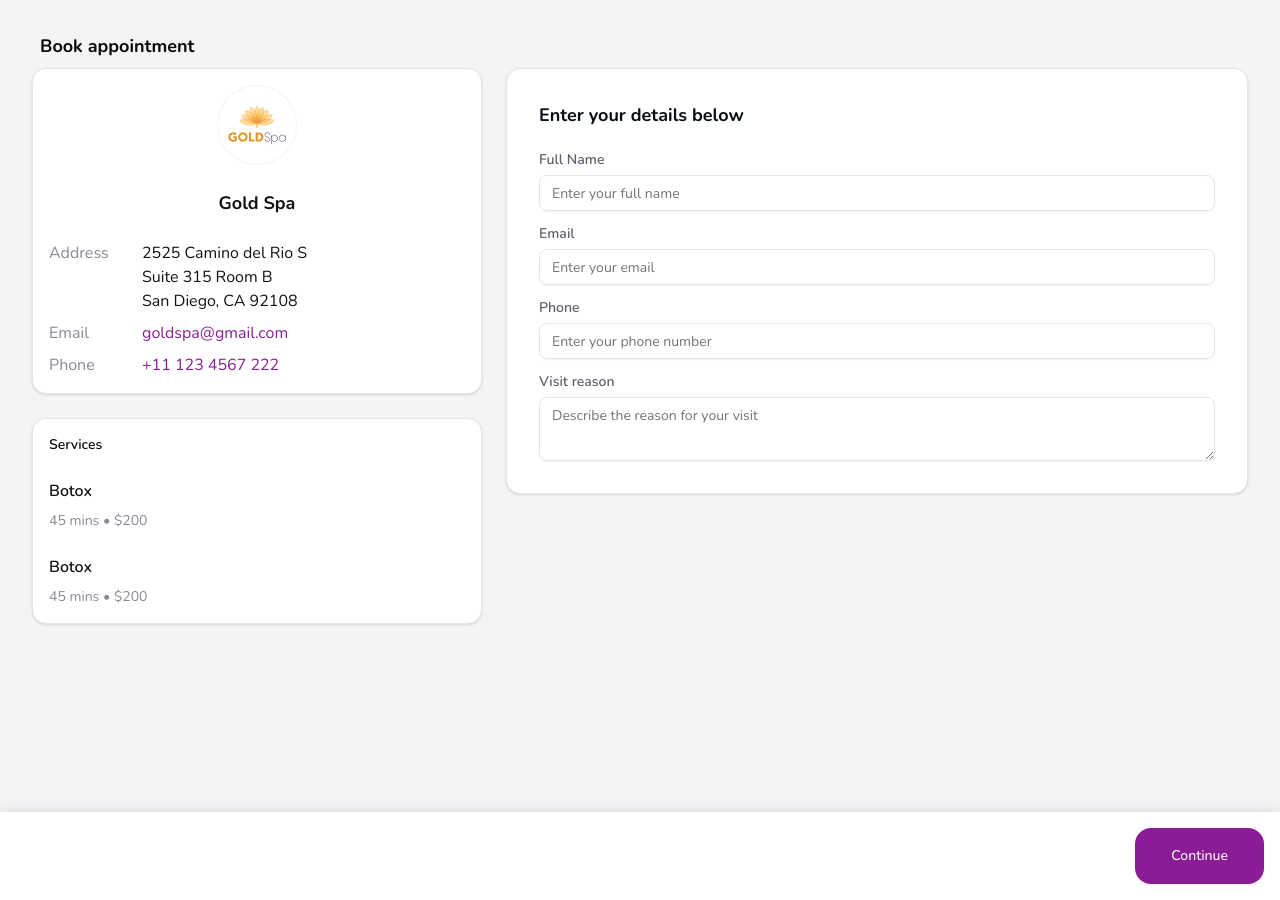
ContactInformation › clears validation errors when valid data is entered
Note: First trigger validation errors
Click the button "Continue" at (1200, 856), box [1135,828,1264,884]
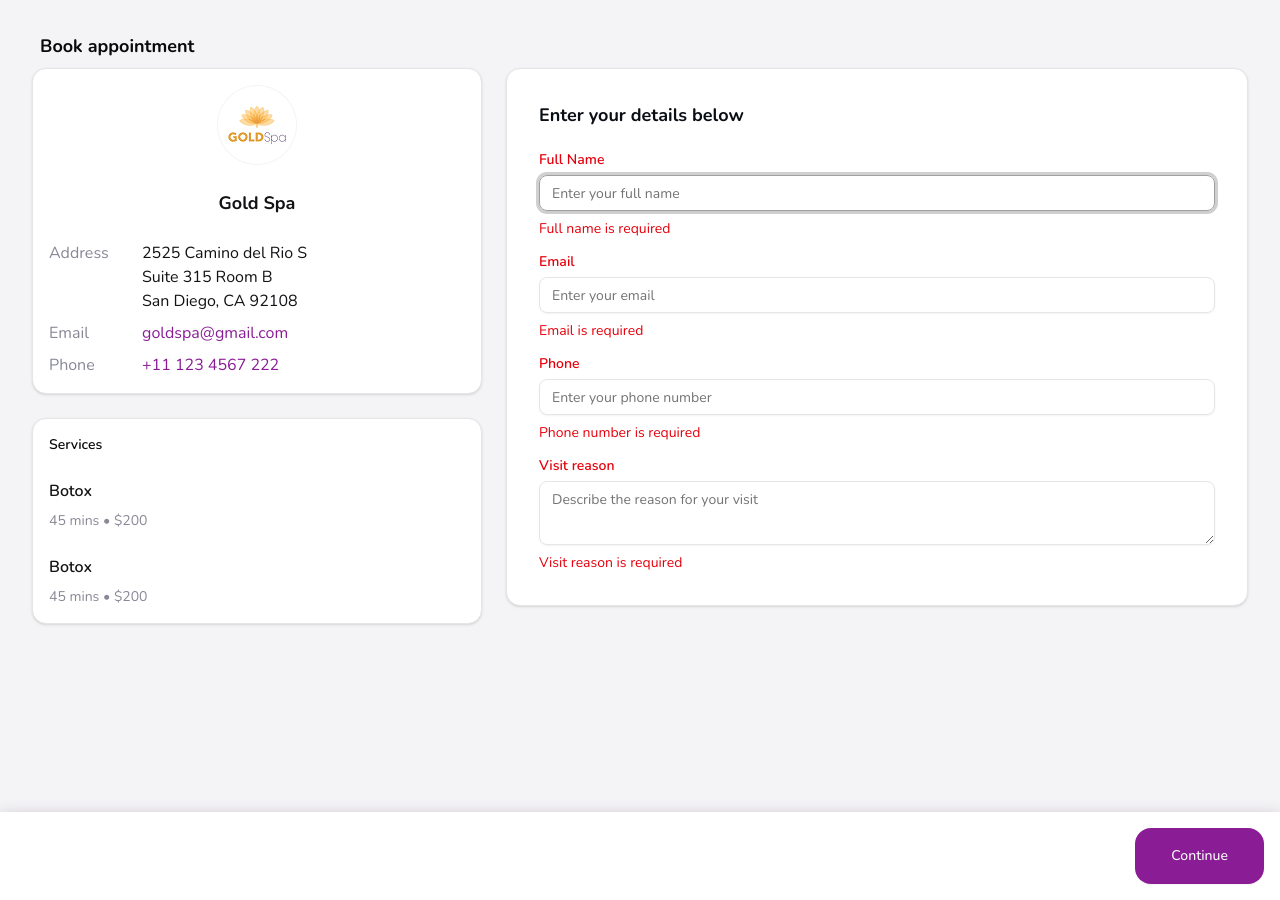
Check: the text "Full name is required" is shown, box [539,219,670,238]
Note: Then fill in the field
Type "Valid Name" into the field labelled "Full Name" at (877, 193), box [539,175,1215,211]
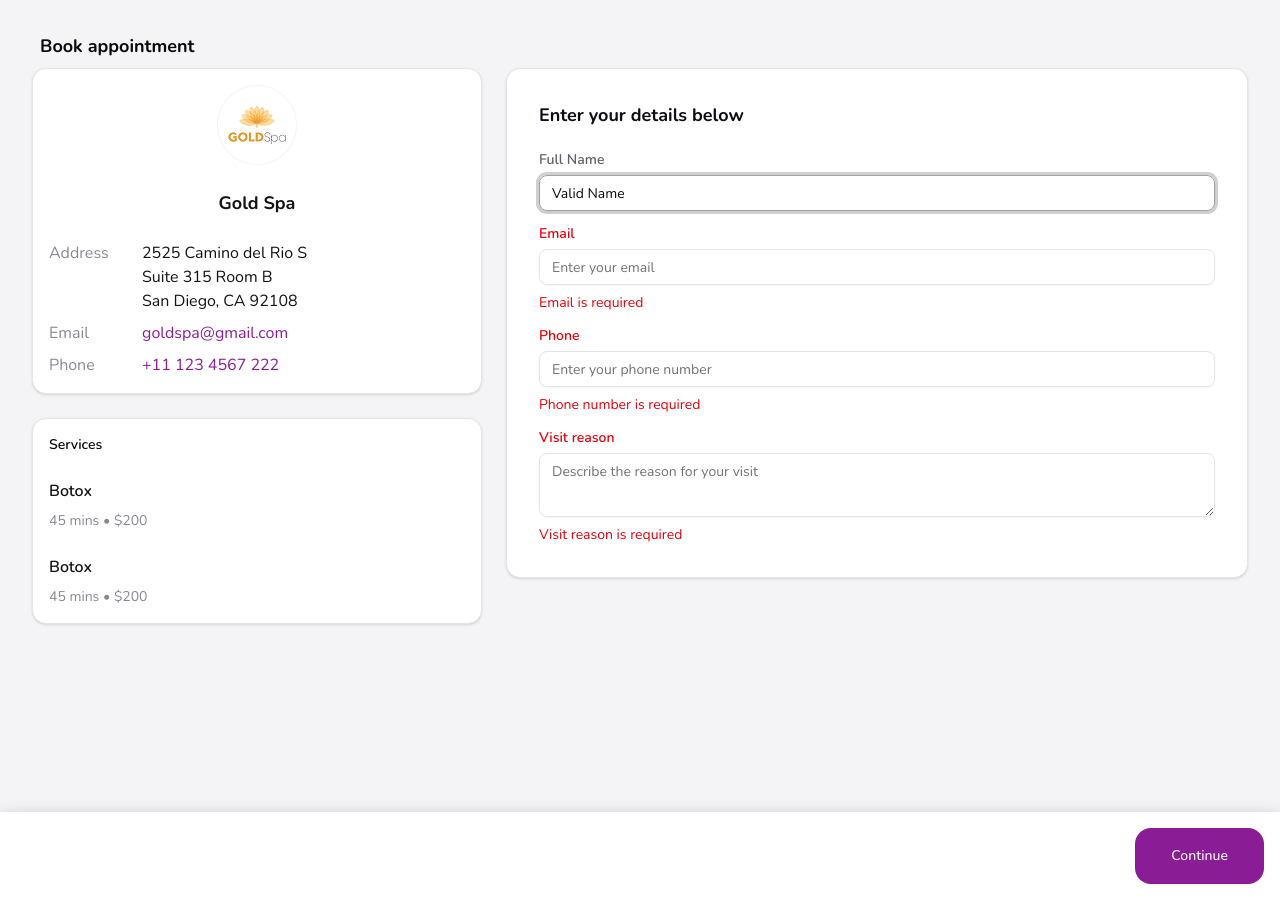
Check: the text "Full name is required" is gone
